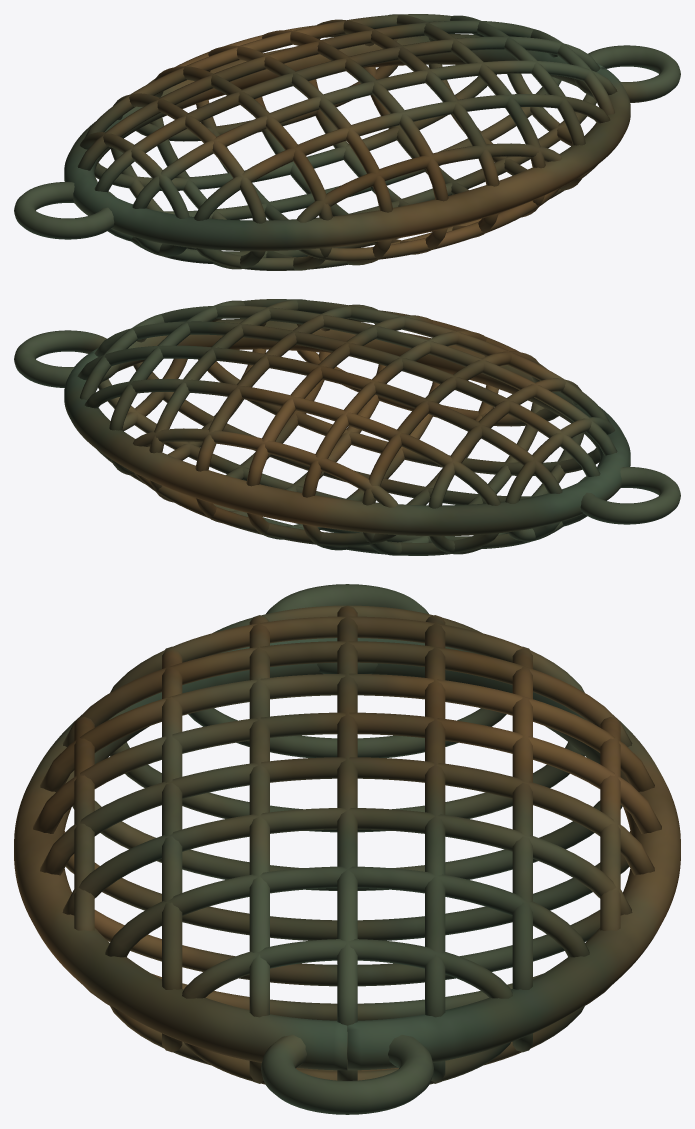
File: guibei.glb
The picture shows the model from 3 angles, top to bottom: view 1: azimuth 30°, elevation 25°; view 2: azimuth 150°, elevation 25°; view 3: azimuth 270°, elevation 25°; orthographic projection. The views are drawn at different scales.
Visible parts, largest first — view 1: model; view 2: model; view 3: model.
Part boxes in pixels (bbox=[...]): model: bbox=[14, 14, 680, 270]; model: bbox=[14, 299, 680, 555]; model: bbox=[14, 584, 680, 1114].
Size of the model in its own units: 1 by 0.248 by 0.5514.
